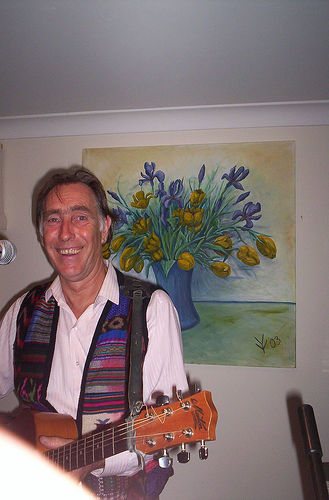without_mask: (20, 168, 129, 282)
